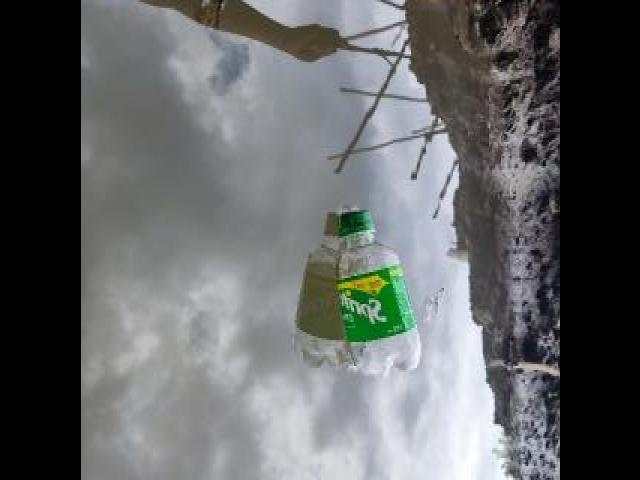Bottle: (326, 206, 424, 384)
